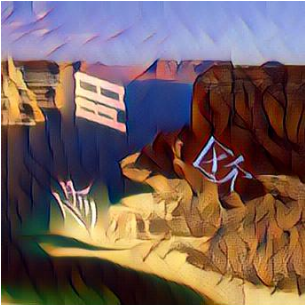hanzi: (41, 171, 113, 245), (191, 129, 264, 201), (67, 67, 132, 139)
